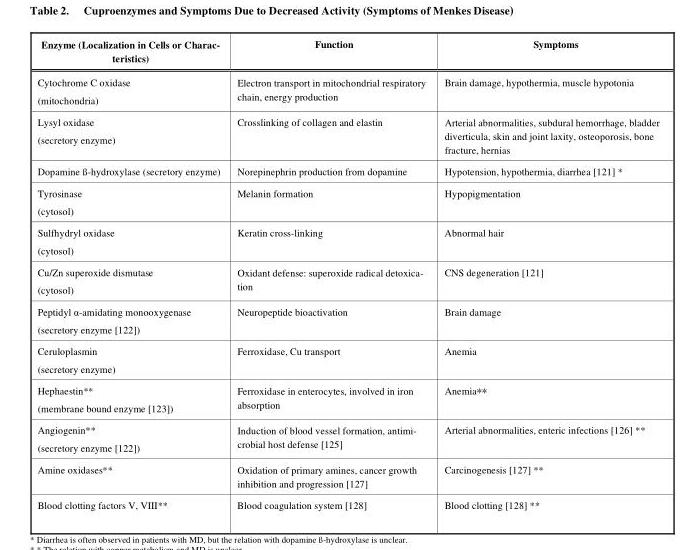table: (36, 36, 658, 510)
table column: (434, 36, 658, 510), (227, 36, 434, 510), (36, 36, 227, 510)
table column header: (36, 36, 658, 69)
table row: (36, 110, 658, 159), (36, 69, 658, 110), (36, 220, 658, 260), (36, 299, 658, 339), (36, 378, 658, 418), (36, 181, 658, 220), (36, 260, 658, 299), (36, 339, 658, 378), (36, 418, 658, 457), (36, 457, 658, 493), (36, 36, 658, 69), (36, 159, 658, 181), (36, 493, 658, 510)
